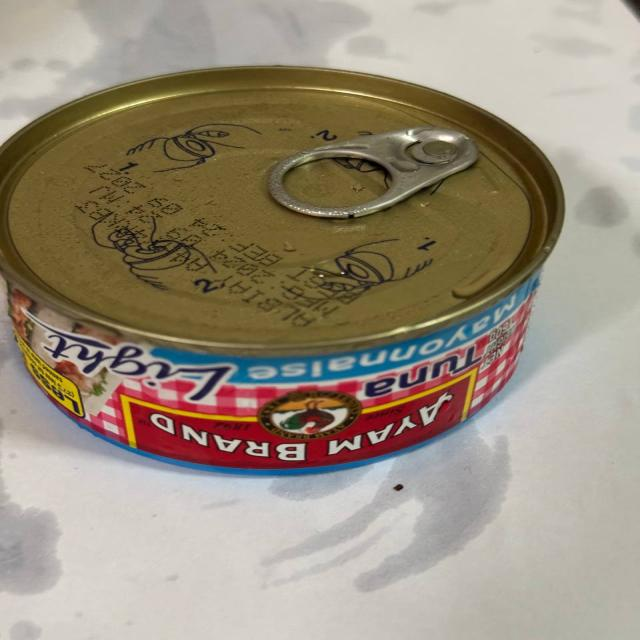tuna-can: (0, 56, 577, 483)
